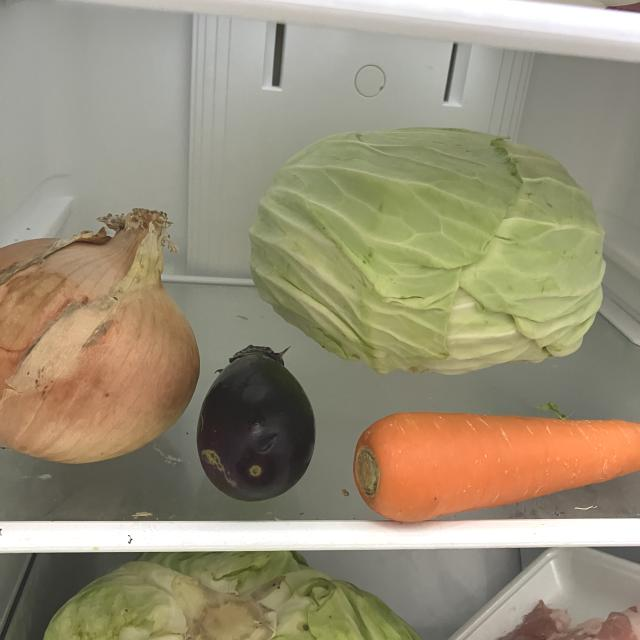cabbage: (248, 123, 613, 383), (40, 551, 434, 640)
carrot: (352, 409, 640, 532)
eggplant: (195, 342, 322, 507)
onion: (1, 207, 205, 471)
